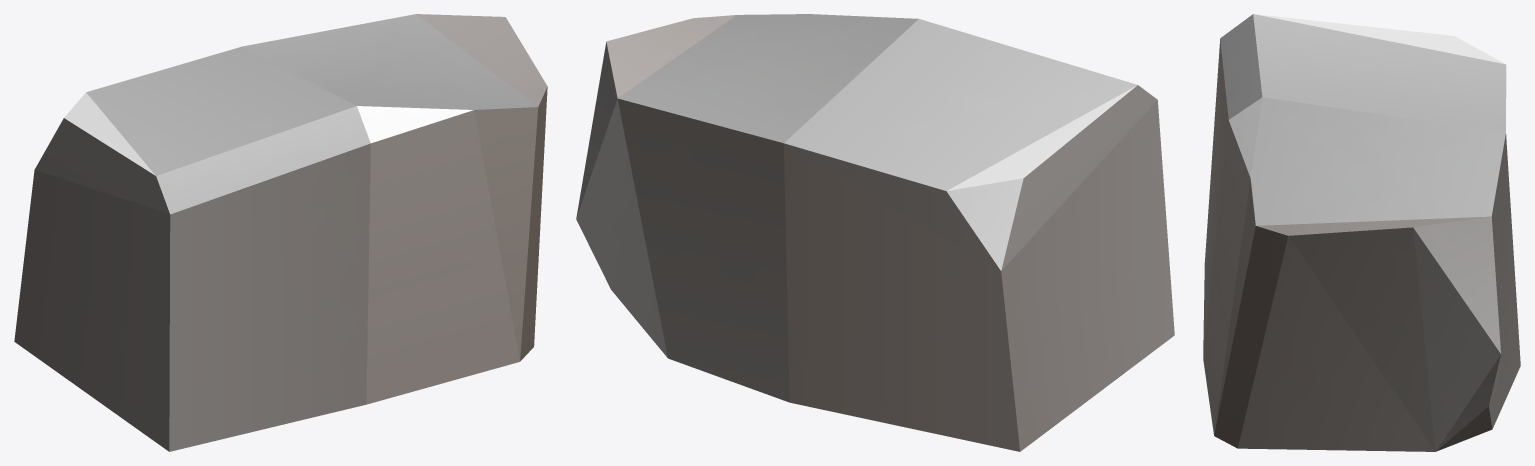
Rendered from DesertRock_01.fbx.
The picture shows the model from 3 angles, left to right: view 1: azimuth 30°, elevation 25°; view 2: azimuth 150°, elevation 25°; view 3: azimuth 270°, elevation 25°; orthographic projection. The views are drawn at different scales.
Visible parts, largest first — view 1: DesertRock_01; view 2: DesertRock_01; view 3: DesertRock_01.
Boxes of the visible parts, box(x1,y1,x2,y2) form: DesertRock_01: box(14, 14, 547, 451); DesertRock_01: box(576, 14, 1174, 451); DesertRock_01: box(1203, 14, 1520, 451).
Size of the model in its own units: 608 by 356 by 378.
